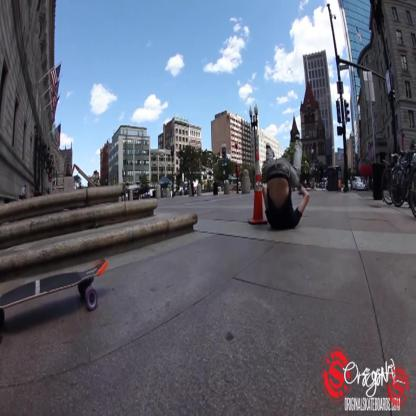Fall_Down: (260, 132, 311, 233)
